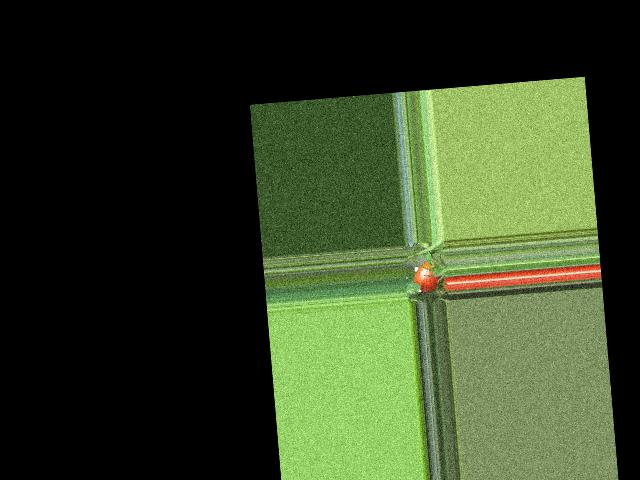tomato: (412, 261, 441, 293)
